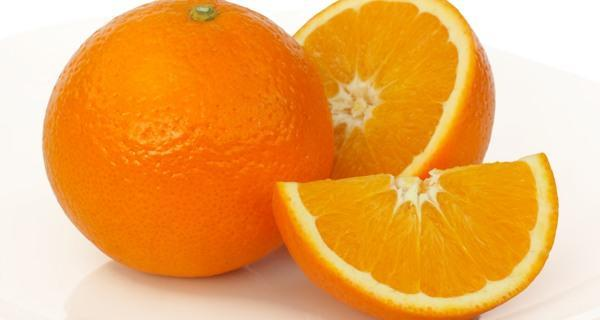orange: (38, 1, 345, 299)
